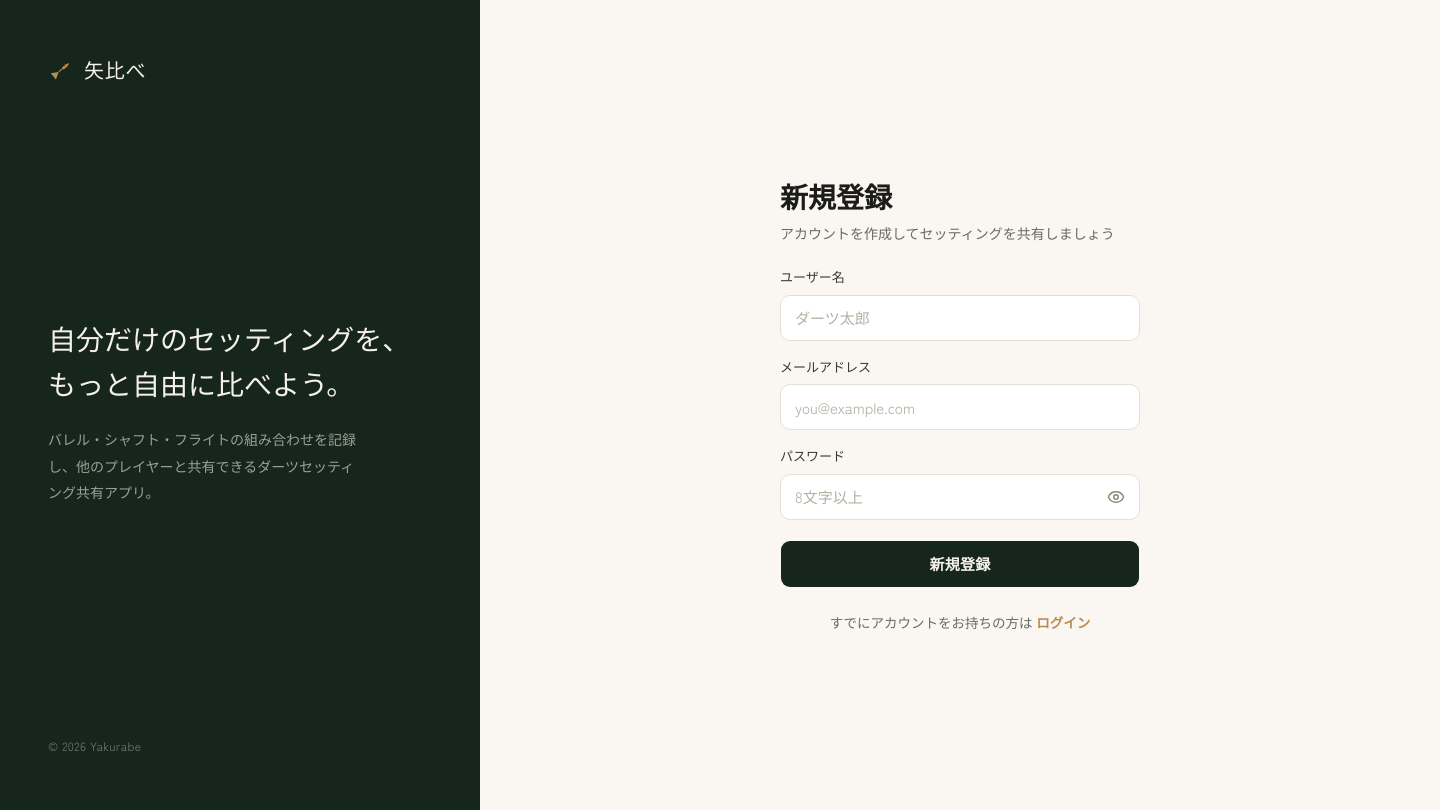
Test: RegisterPage › サーバーがエラーを返したらエラーメッセージを表示する
This screenshot has width=1440, height=810.
Step 1. Type "testuser" into the field labelled "ユーザー名" → (960, 318), box [780,295,1140,341]
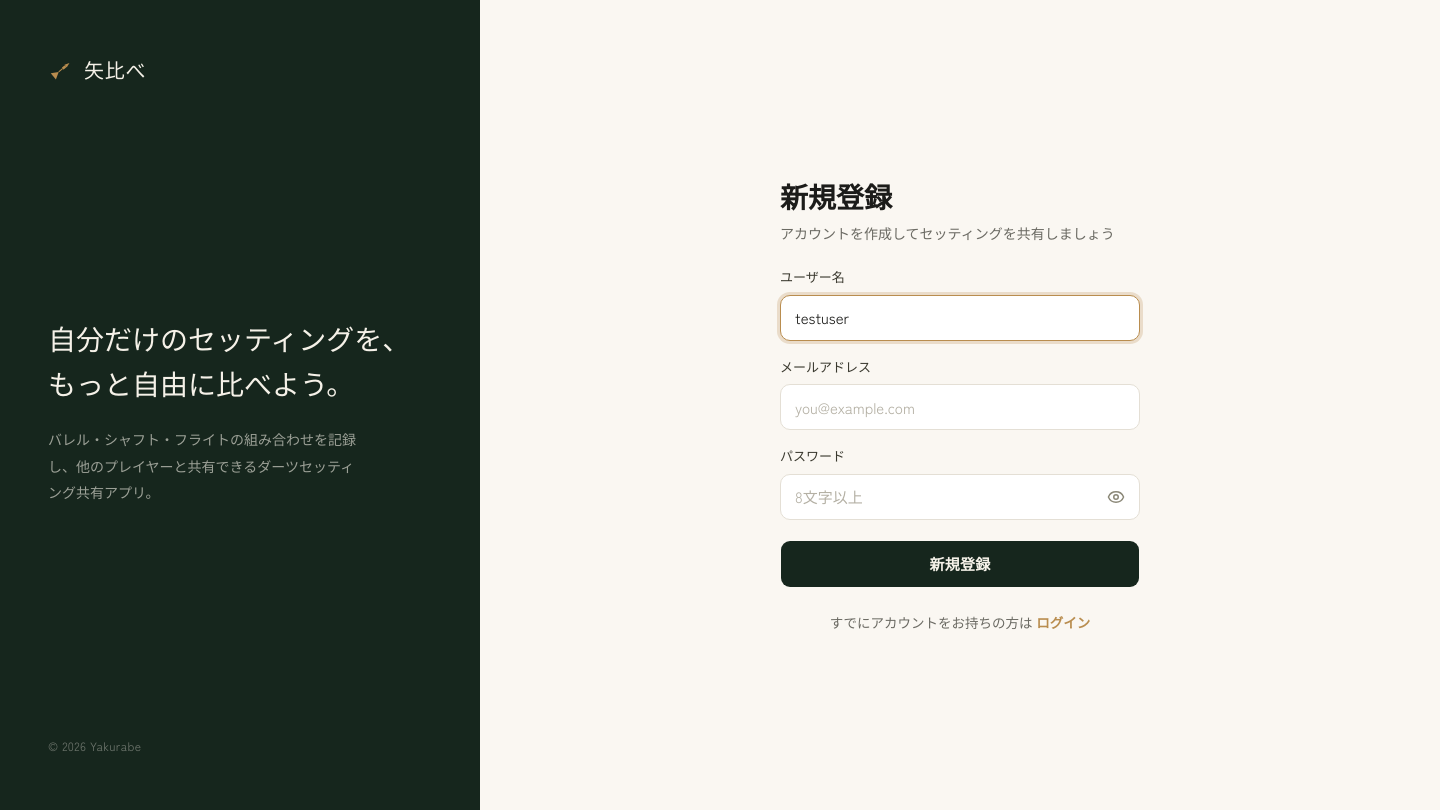
Step 2. Type "test@example.com" into the field labelled "メールアドレス" → (960, 407), box [780,384,1140,430]
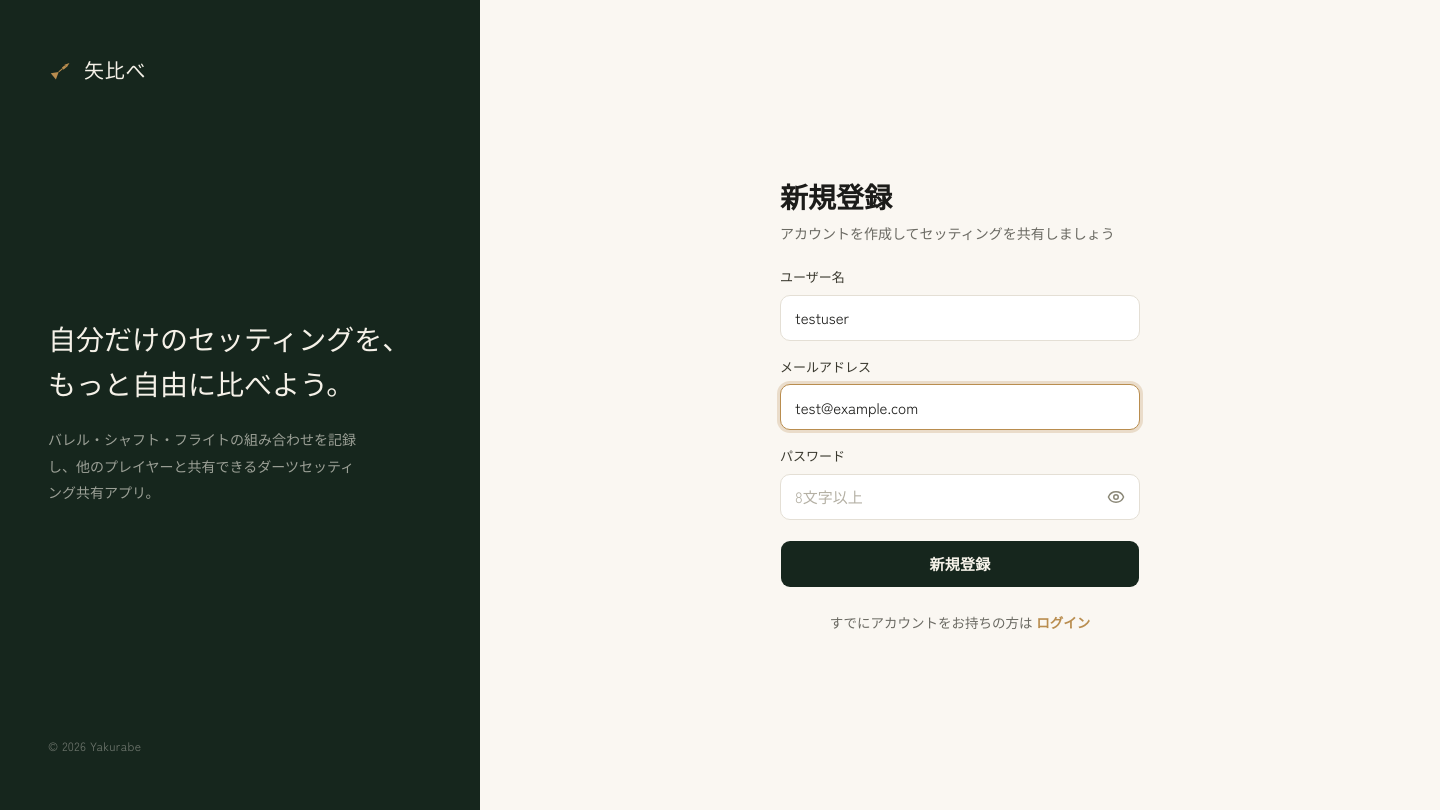
Step 3. Type "Password123!" into the password field labelled "パスワード" → (960, 497), box [780,474,1140,520]
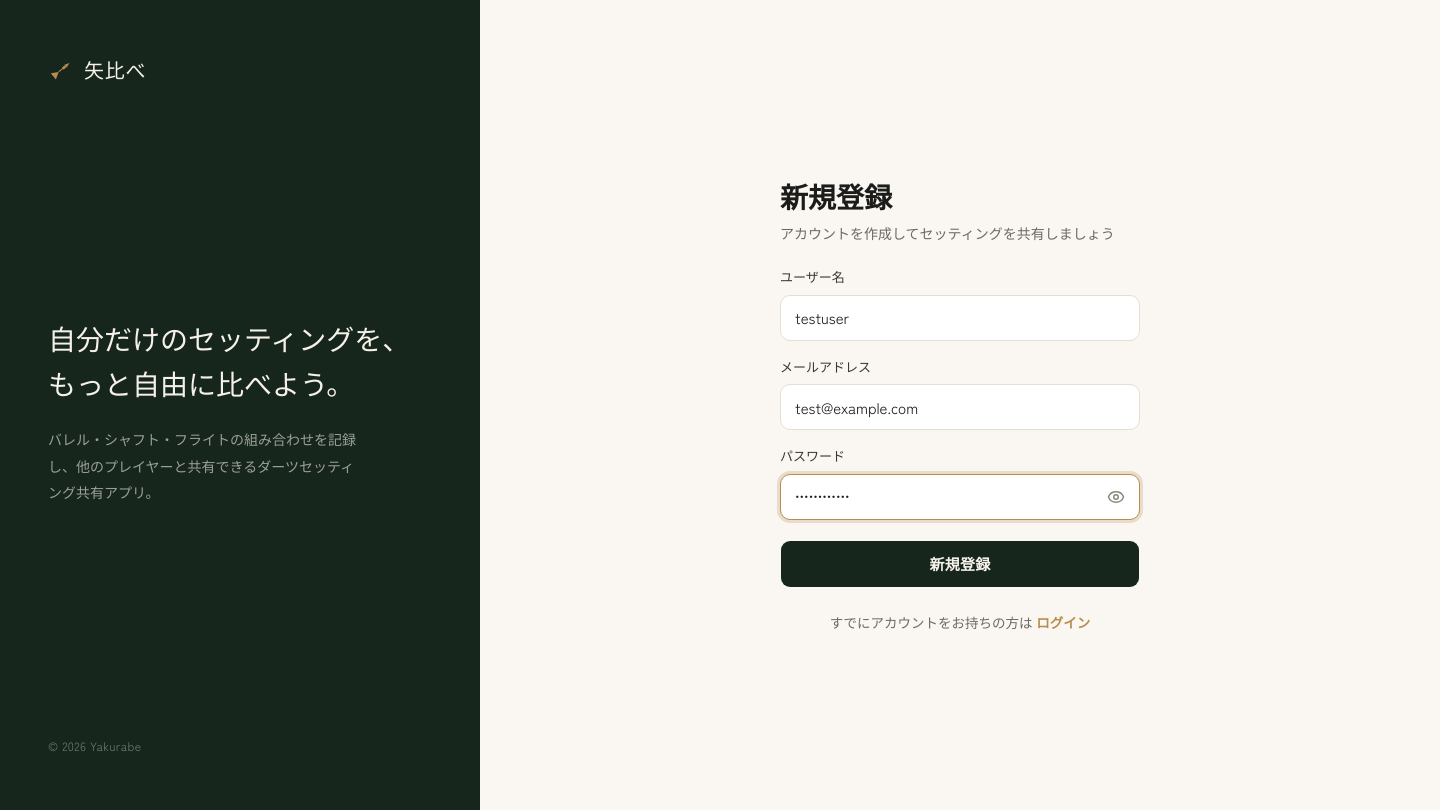
Step 4. Click the button "新規登録" → (960, 564), box [780,540,1140,588]
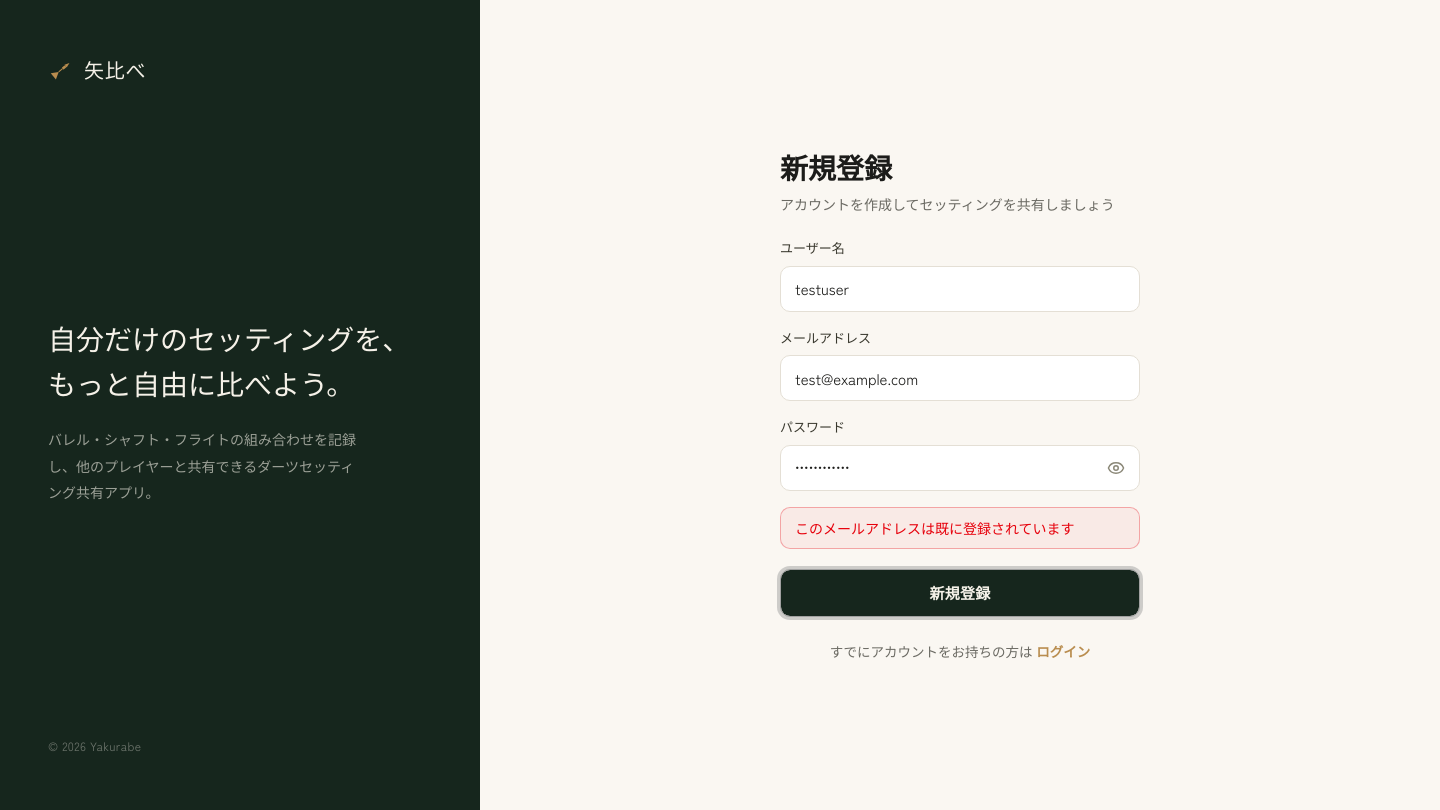
Result: the text "このメールアドレスは既に登録されています" is shown at [780,507,1140,549]
